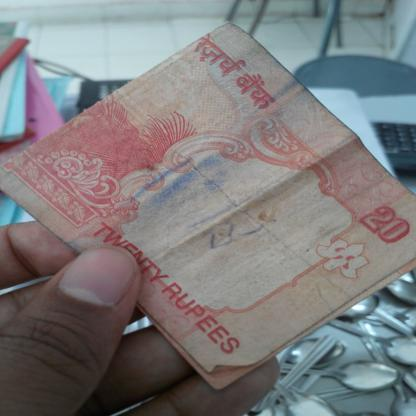Old20Back: (26, 25, 416, 362)
